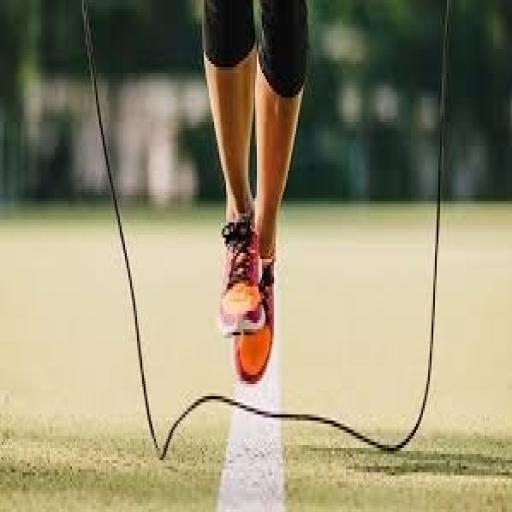running: (198, 0, 312, 387)
